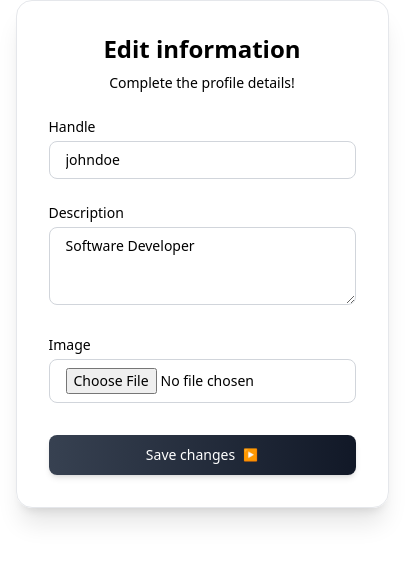
Test case: ProfileView › should show validation error for required description field
// Type something and then clear it to trigger validation
In the text box with placeholder "Your description": (202, 266) [48,227,356,305], type "test"
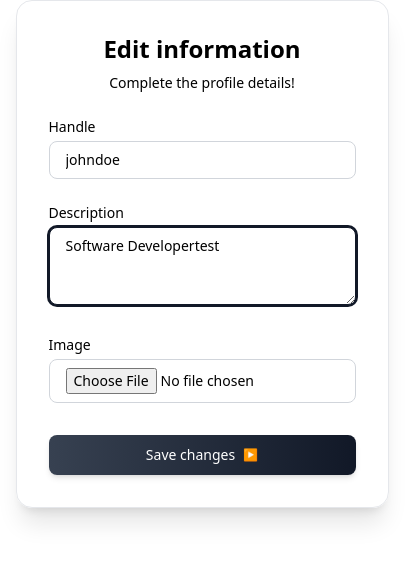
Clear the text box with placeholder "Your description": (202, 266) [48,227,356,305]
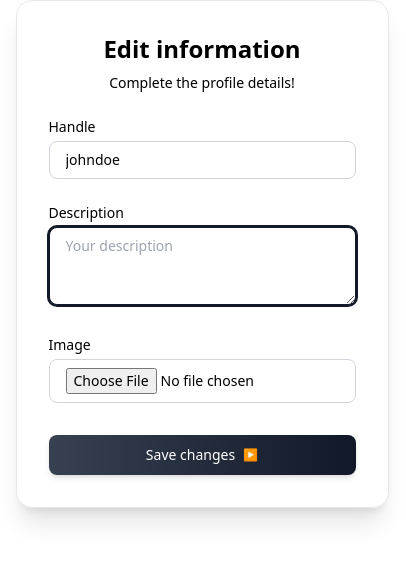
Click the button "Save changes ▶": (202, 455) [48,435,356,475]
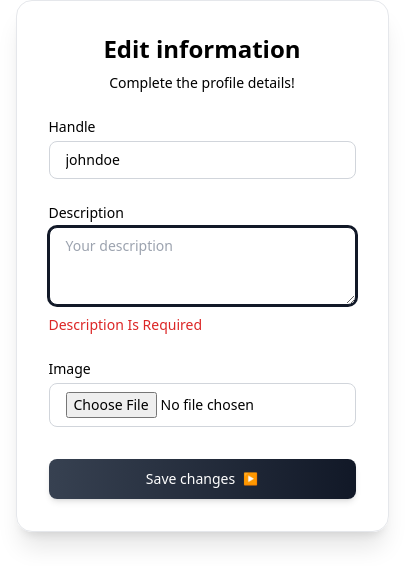
expect the text "description is required" is shown: met, box [48,315,202,334]
